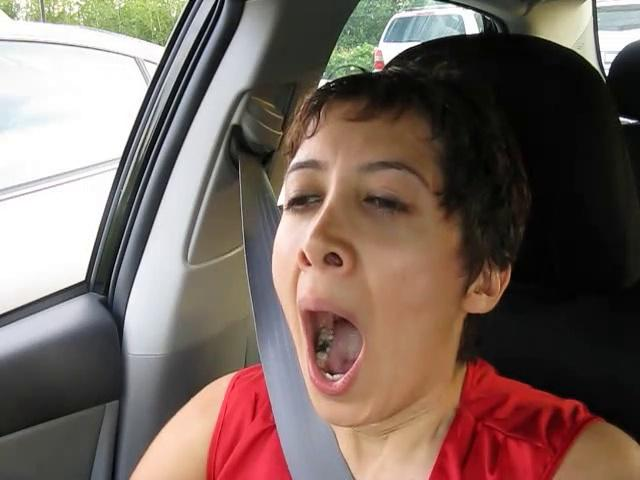close_eyeL: (273, 178, 339, 226)
close_eyeR: (343, 179, 432, 234)
yawn: (267, 293, 390, 412)
